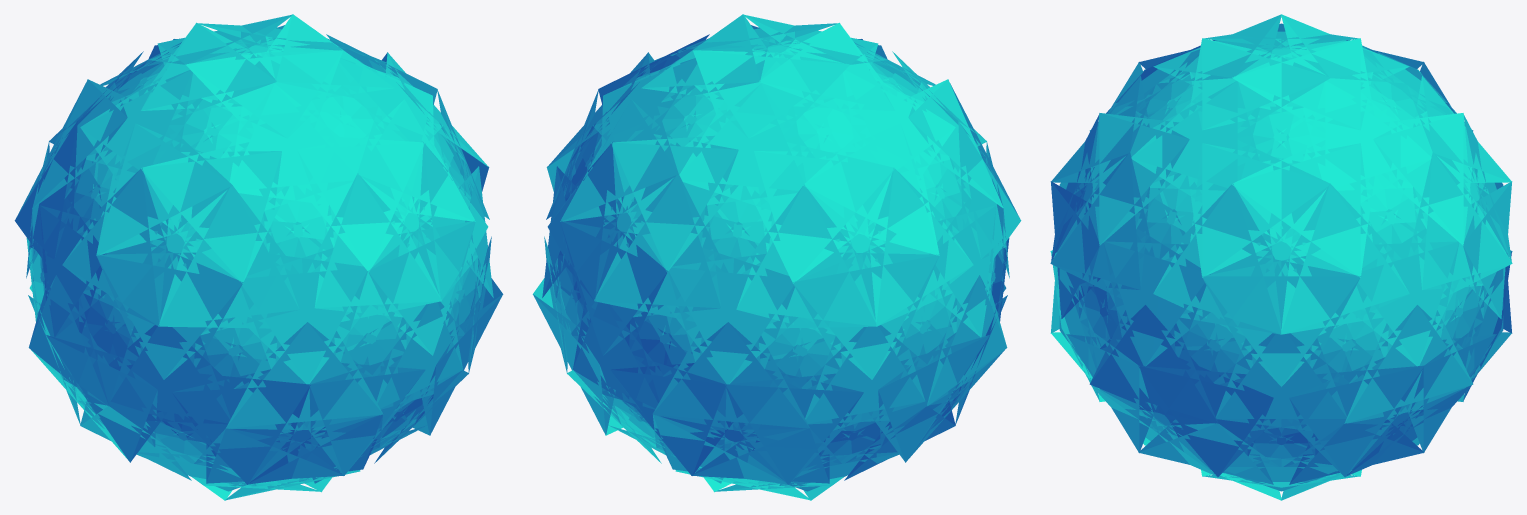
The model's file is starbit.fbx.
3 views of the same model, side by side, from view 1: azimuth 30°, elevation 25°; view 2: azimuth 150°, elevation 25°; view 3: azimuth 270°, elevation 25° (orthographic).
Parts seen in each view (by area): view 1: Icosphere; view 2: Icosphere; view 3: Icosphere.
Part boxes in pixels (x1,y1,x2,y2): Icosphere: [14, 14, 503, 500]; Icosphere: [532, 14, 1021, 500]; Icosphere: [1050, 14, 1512, 500].
Size of the model in its own units: 204 by 193 by 194.
